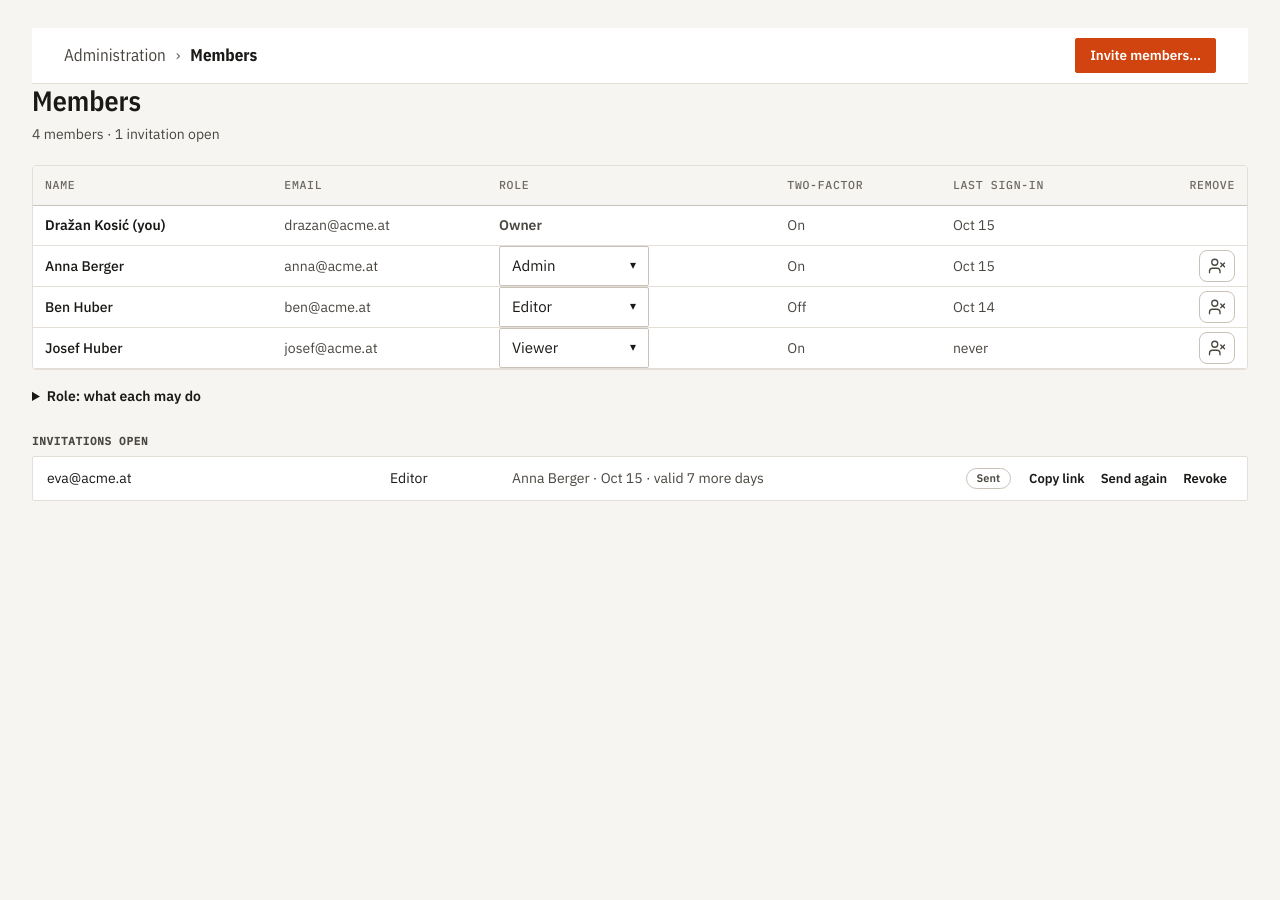
Invite members (AWK-30, W18 B) › sends the invitations when email is set up, and says so
Expected: the table named "Members" is shown, 33,166 -> 1247,369
Click the button "Invite members…". click: click(1146, 56)
box: 1075,38 -> 1216,73
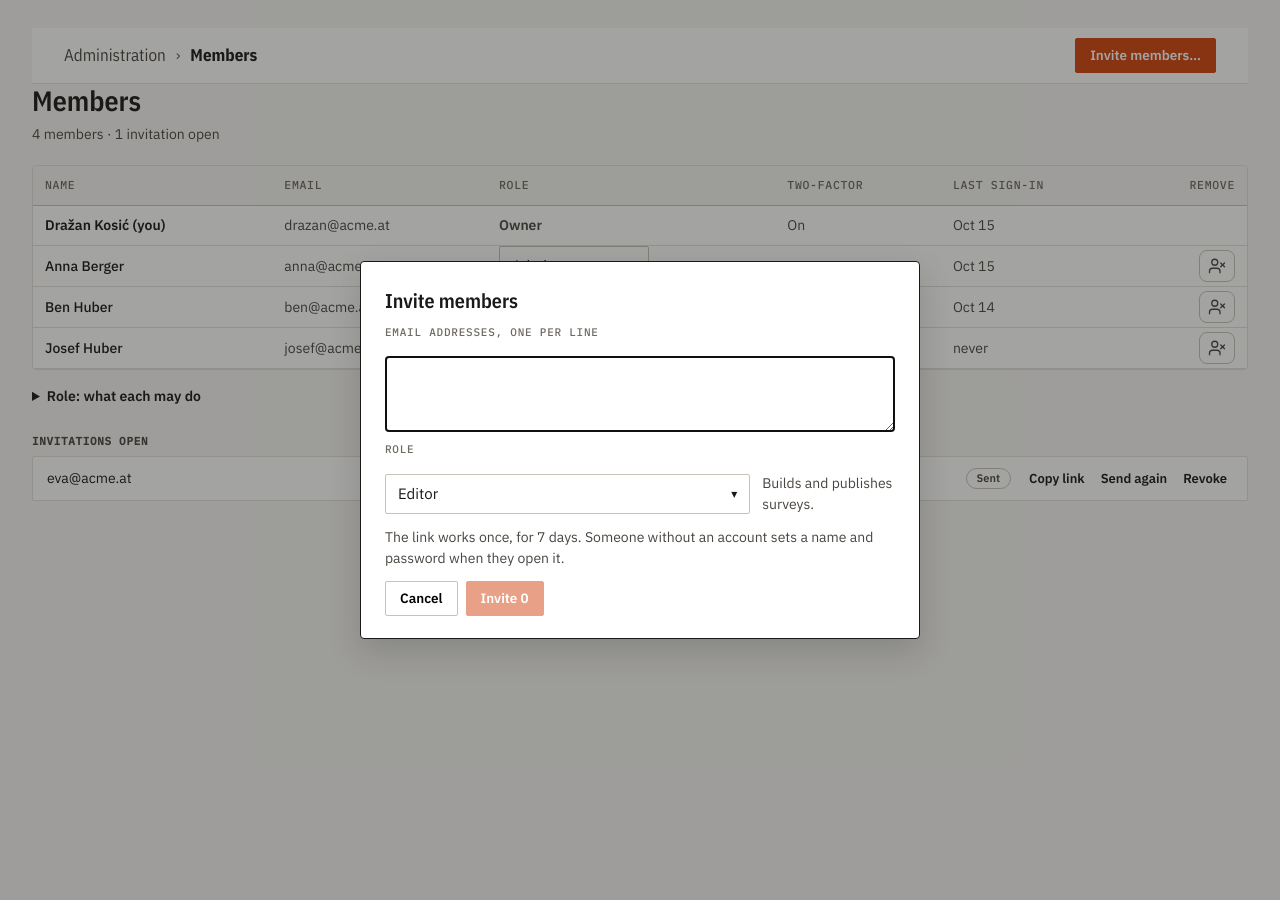
Type "eva@acme.at" into the text box labelled "Email addresses, one per line". click: (640, 394)
box: 385,356 -> 895,432
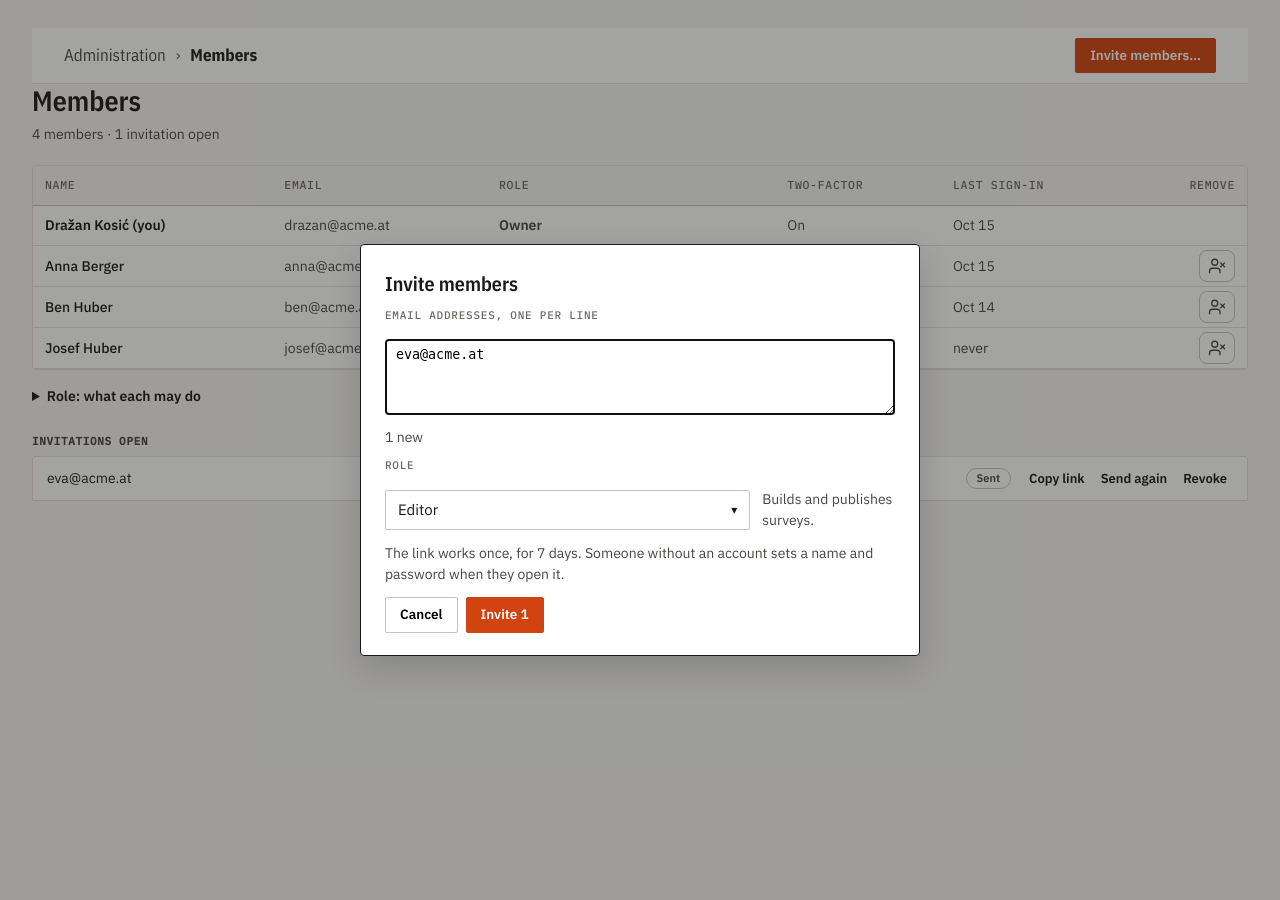
Click the button "Invite 1". click: click(505, 615)
box: 466,597 -> 544,633
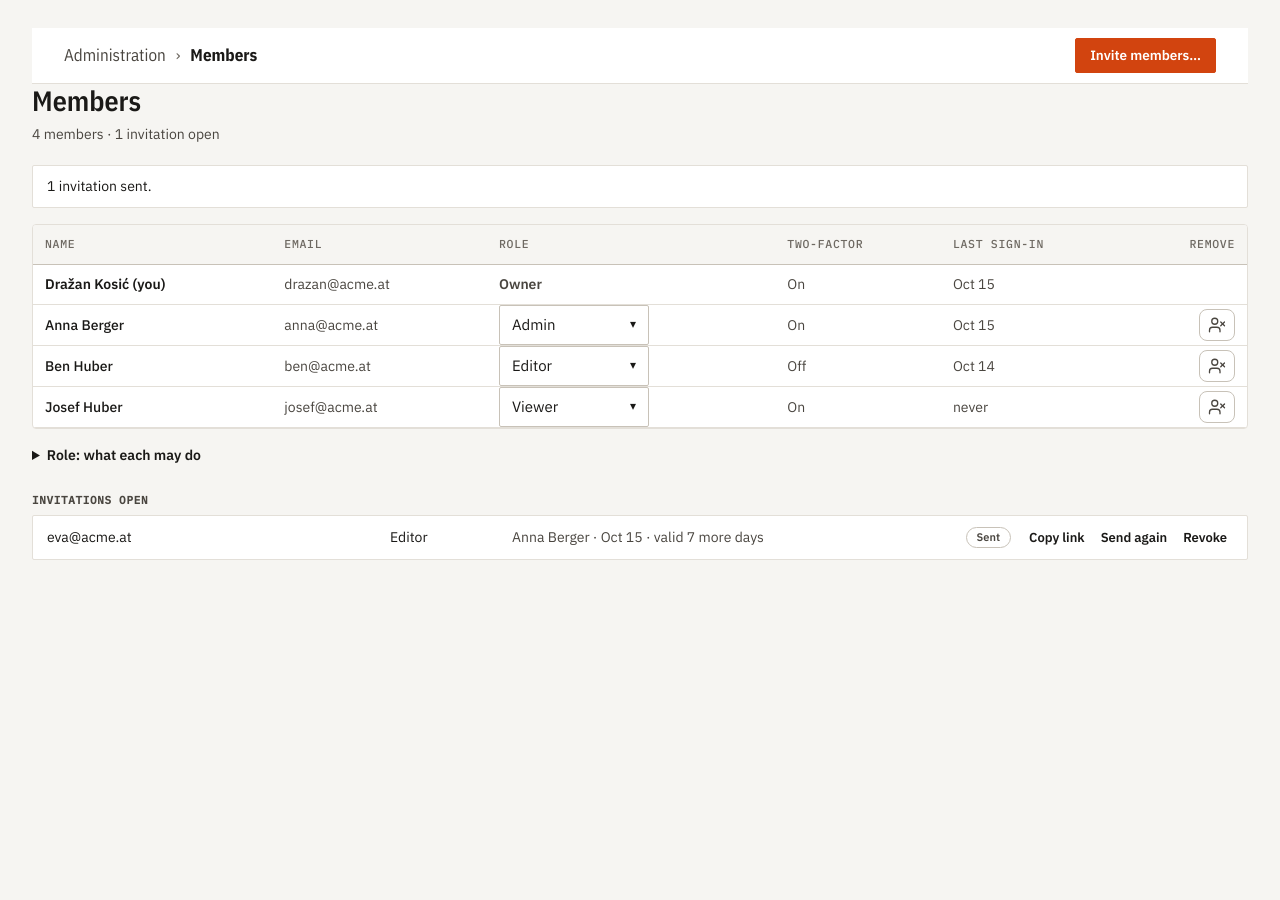
Expected: the text "1 invitation sent." is shown, 32,165 -> 1248,208
Expected: the dialog is gone
